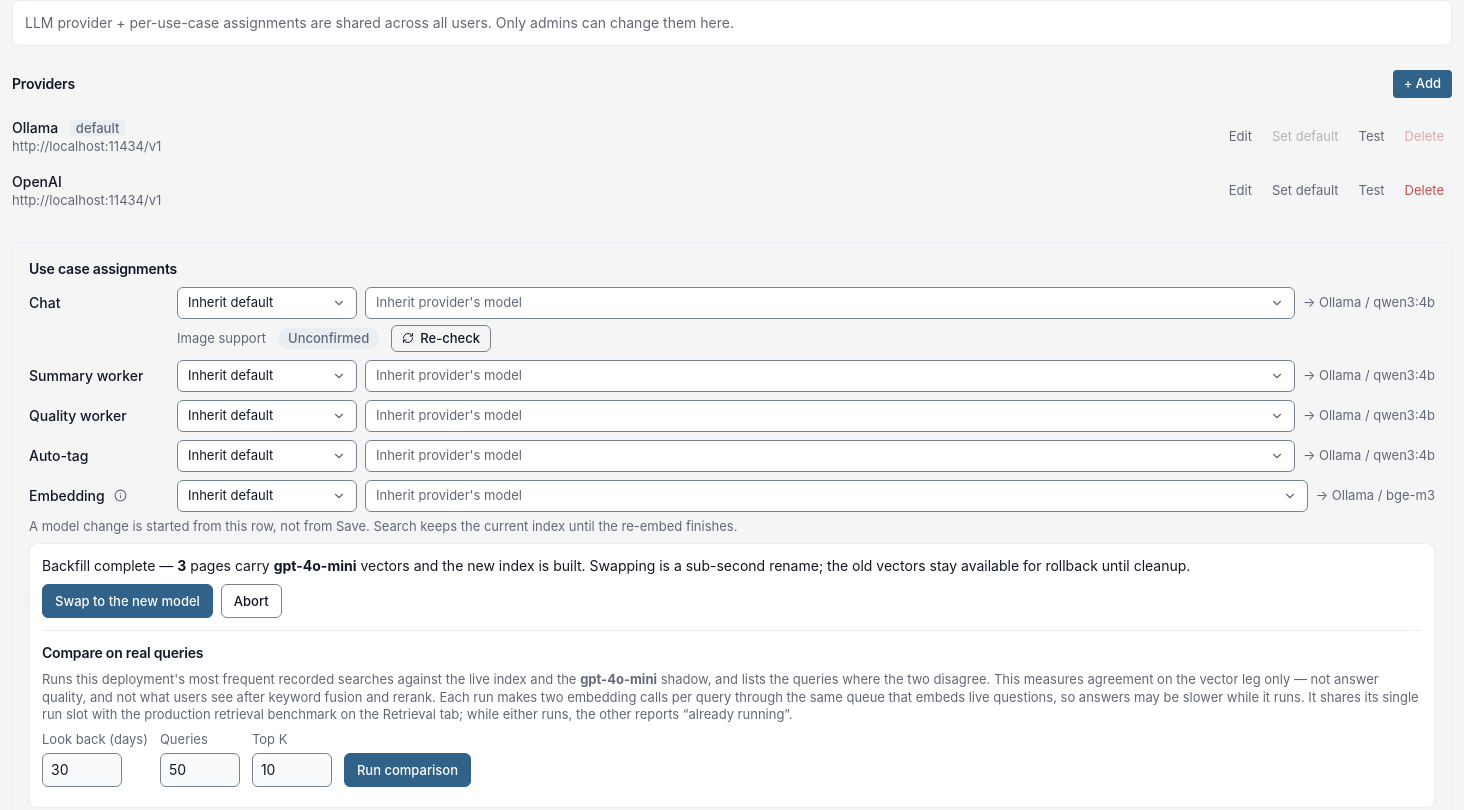
Test: LlmTab › a completed swap does not re-raise the destructive re-embed banner (review r8)
The image size is (1464, 810).
Expected: the heading "Use case assignments" is shown, left=29, top=260, right=177, bottom=277
Click the button "Swap to the new model" at (127, 601), box left=42, top=584, right=213, bottom=618
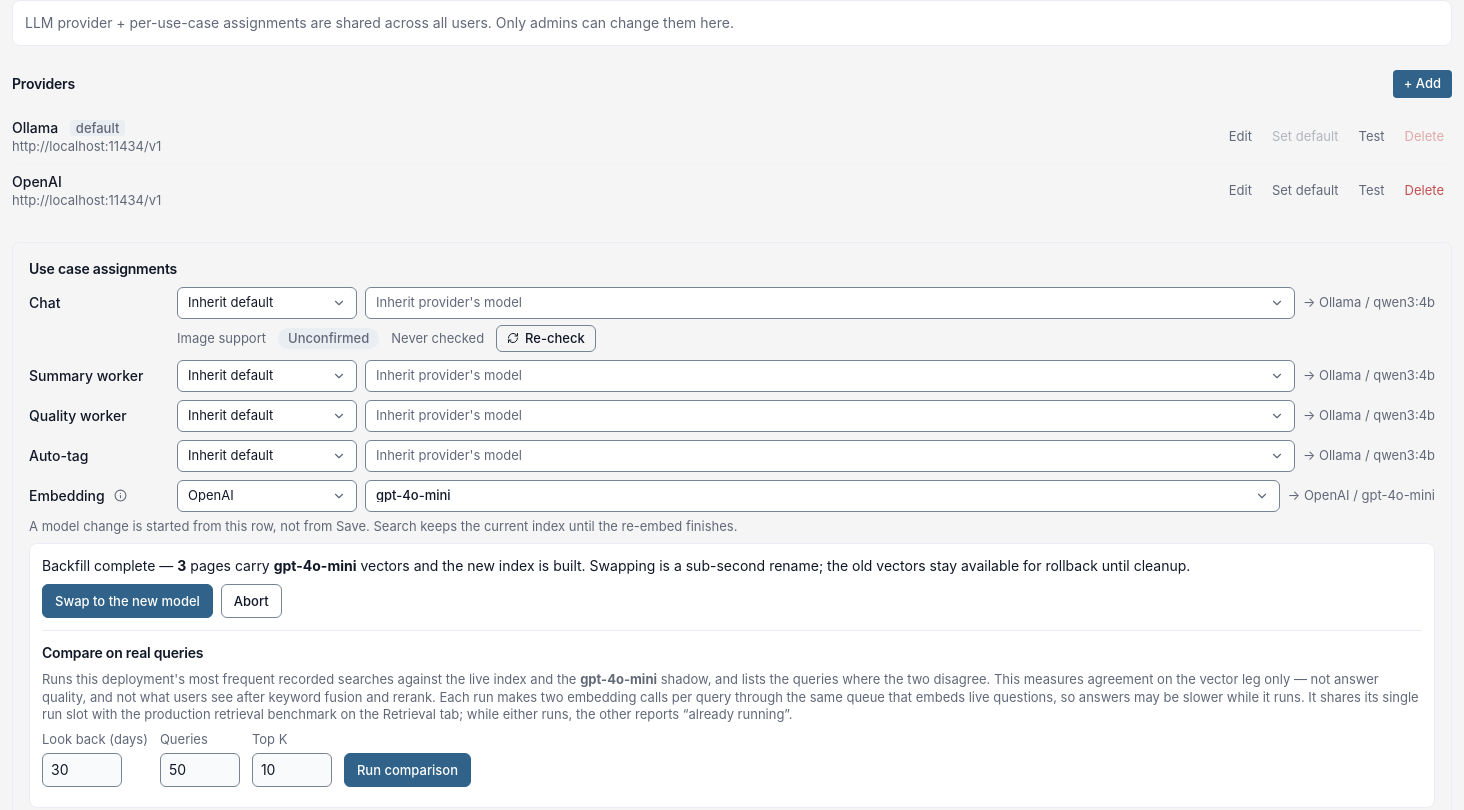
Expected: the dropdown with test id "usecase-embedding-provider" shows "OpenAI", left=177, top=480, right=357, bottom=512
